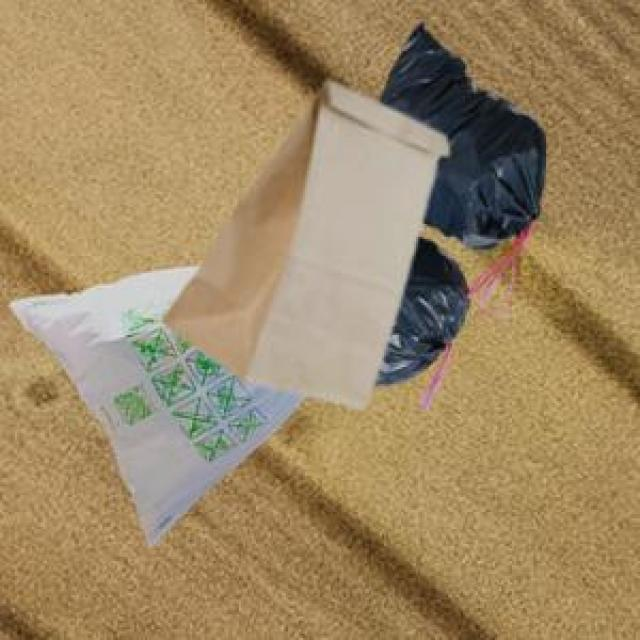miscellaneous trash: (369, 19, 542, 405)
paper: (160, 77, 444, 403)
